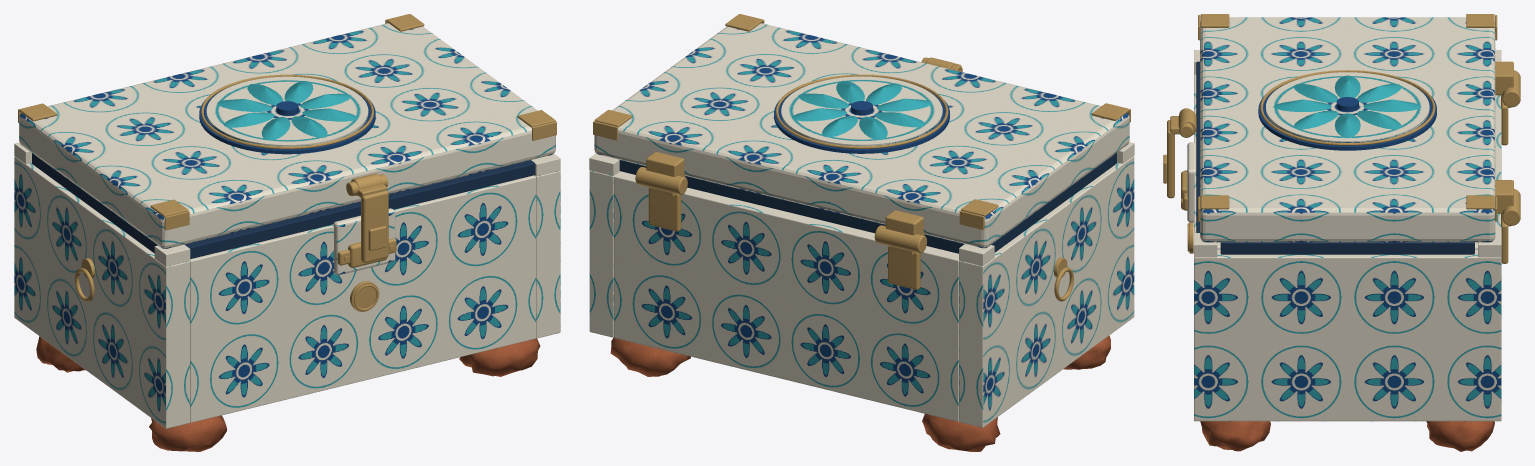
Rendered from uzbekistan.glb.
3 views of the same model, side by side, from view 1: azimuth 30°, elevation 25°; view 2: azimuth 150°, elevation 25°; view 3: azimuth 270°, elevation 25° (orthographic).
Visible parts, largest first — view 1: Lid / polished slab, Ceramic / front, Ceramic / side, Blue seam / long, Rishtan / ivory inset, Ceramic / side.001, Clay foot, Clay foot.002, Latch / lifting hasp, Ceramic / clasp seat, Blue seam / side, Rishtan / brass perimeter (+6 smaller); view 2: Lid / polished slab, Ceramic / rear, Ceramic / side, Rishtan / ivory inset, Ceramic / side.001, Blue seam / long.001, Clay foot.001, Clay foot.003, Blue seam / side, Rishtan / medallion, Rishtan / brass perimeter, Hinge / fixed mount.001 (+10 smaller); view 3: Lid / polished slab, Ceramic / side.001, Rishtan / ivory inset, Blue seam / side.001, Clay foot.002, Clay foot.003, Rishtan / medallion, Rishtan / brass perimeter, Ceramic / rear, Ceramic / clasp seat, Blue seam / long, Hinge / moving leaf (+18 smaller).
Boxes of the visible parts, left/top/right/bottom form: Lid / polished slab: left=19, top=23, right=555, bottom=248; Ceramic / front: left=190, top=175, right=536, bottom=422; Ceramic / side: left=14, top=156, right=189, bottom=428; Blue seam / long: left=184, top=160, right=535, bottom=258; Rishtan / ivory inset: left=206, top=76, right=368, bottom=146; Ceramic / side.001: left=534, top=171, right=560, bottom=338; Clay foot: left=149, top=415, right=226, bottom=451; Clay foot.002: left=459, top=338, right=540, bottom=376; Latch / lifting hasp: left=361, top=190, right=388, bottom=262; Ceramic / clasp seat: left=333, top=208, right=395, bottom=275; Blue seam / side: left=32, top=153, right=157, bottom=253; Rishtan / brass perimeter: left=201, top=74, right=373, bottom=149; Lid / polished slab: left=594, top=23, right=1129, bottom=248; Ceramic / rear: left=614, top=171, right=959, bottom=421; Ceramic / side: left=959, top=156, right=1134, bottom=427; Rishtan / ivory inset: left=781, top=76, right=942, bottom=146; Ceramic / side.001: left=589, top=170, right=620, bottom=337; Blue seam / long.001: left=619, top=160, right=964, bottom=253; Clay foot.001: left=922, top=414, right=1000, bottom=451; Clay foot.003: left=610, top=337, right=690, bottom=376; Blue seam / side: left=991, top=153, right=1116, bottom=252; Rishtan / medallion: left=774, top=90, right=949, bottom=153; Rishtan / brass perimeter: left=775, top=74, right=948, bottom=148; Hinge / fixed mount.001: left=648, top=187, right=681, bottom=231; Lid / polished slab: left=1200, top=17, right=1495, bottom=242; Ceramic / side.001: left=1194, top=249, right=1501, bottom=421; Rishtan / ivory inset: left=1266, top=72, right=1429, bottom=142; Blue seam / side.001: left=1220, top=242, right=1474, bottom=254; Clay foot.002: left=1200, top=421, right=1270, bottom=451; Clay foot.003: left=1426, top=421, right=1494, bottom=451; Rishtan / medallion: left=1258, top=85, right=1436, bottom=150; Rishtan / brass perimeter: left=1260, top=70, right=1435, bottom=145; Ceramic / rear: left=1495, top=95, right=1501, bottom=232; Ceramic / clasp seat: left=1187, top=142, right=1196, bottom=222; Blue seam / long: left=1196, top=61, right=1199, bottom=232; Hinge / moving leaf: left=1495, top=61, right=1513, bottom=95.
Size of the model in its own units: 3.79 by 2.41 by 2.88.
Materials: 6 (2 with a texture image).
